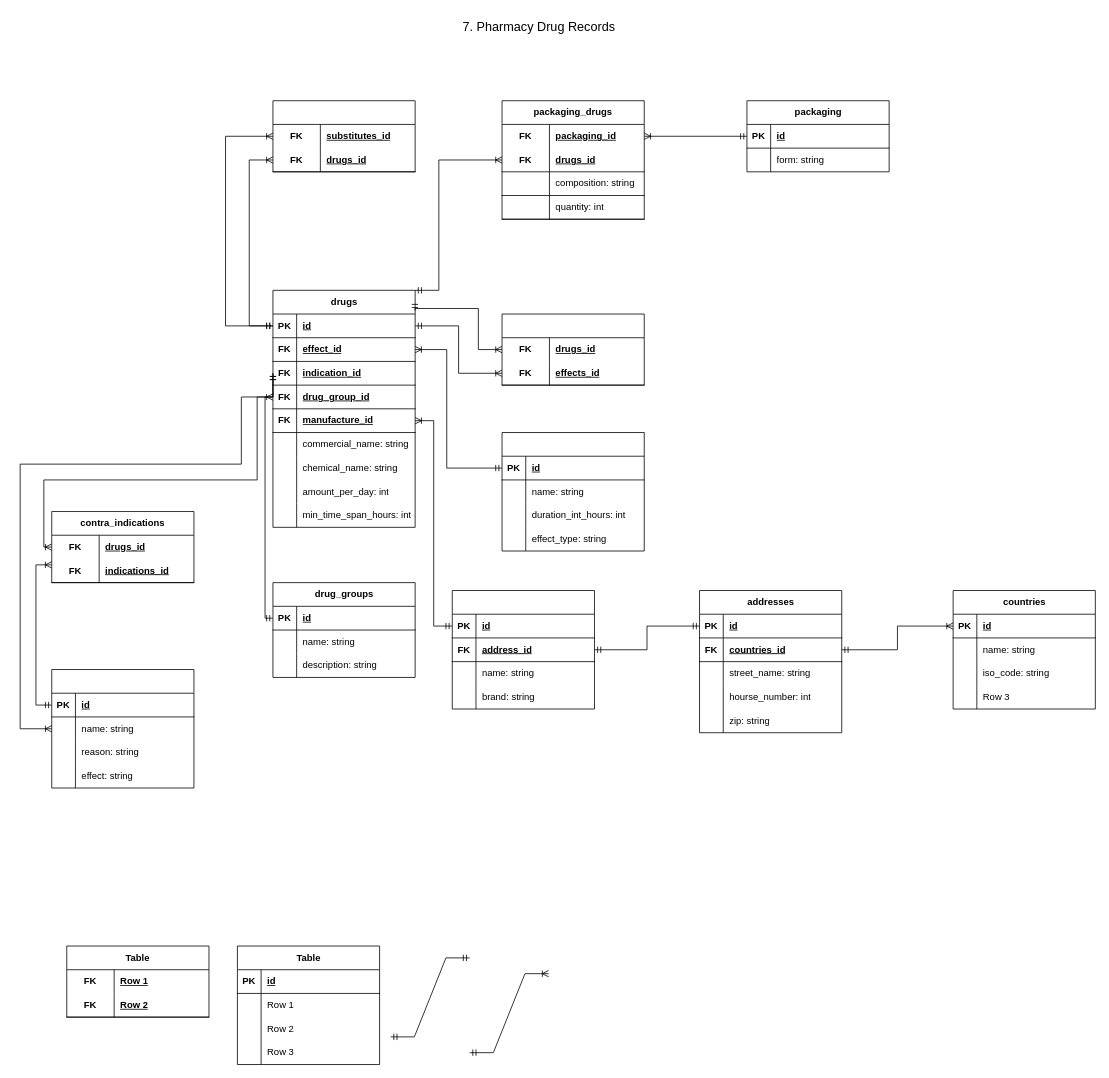
Image size: 1109x1078. Some labels were removed from this diagram. Each missing label, with the box of its shape:
effects: (501, 432, 644, 551)
indications: (51, 669, 194, 788)
manufactures: (451, 590, 594, 709)
side_effects: (501, 313, 644, 385)
substitutes_ drugs: (272, 100, 415, 172)
